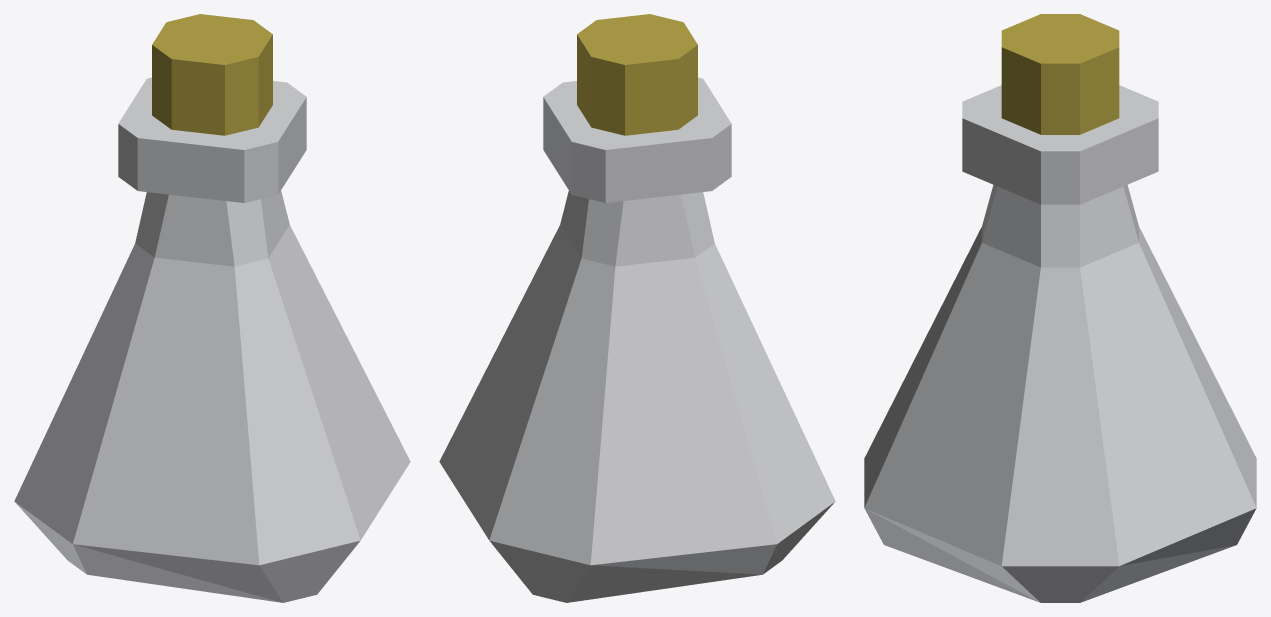
Rendered from inv_vial.obj.
The picture shows the model from 3 angles, left to right: view 1: azimuth 30°, elevation 25°; view 2: azimuth 150°, elevation 25°; view 3: azimuth 270°, elevation 25°; orthographic projection.
Bounding box in the file's own units: 0.1562 × 0.2188 × 0.1562.
